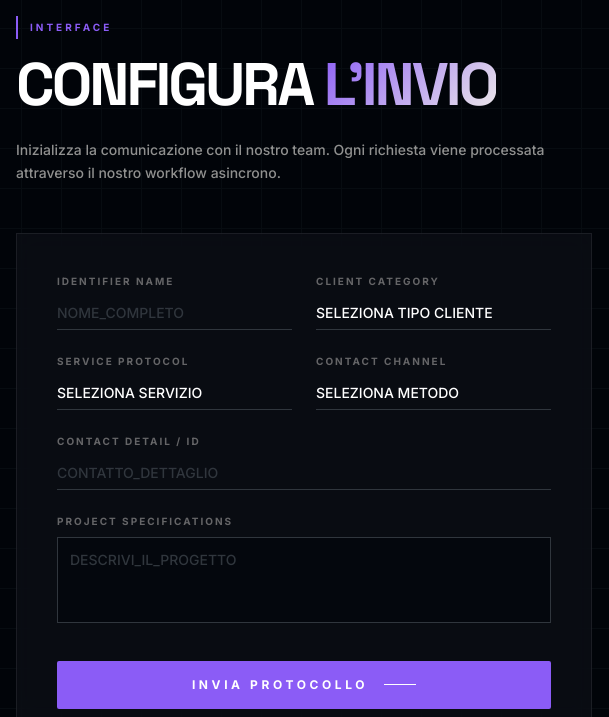
Test: ContactForm › shows client type validation error
The image size is (609, 717).
In the field labelled "Identifier Name": (174, 313) [57,296,292,330], type "Test User"
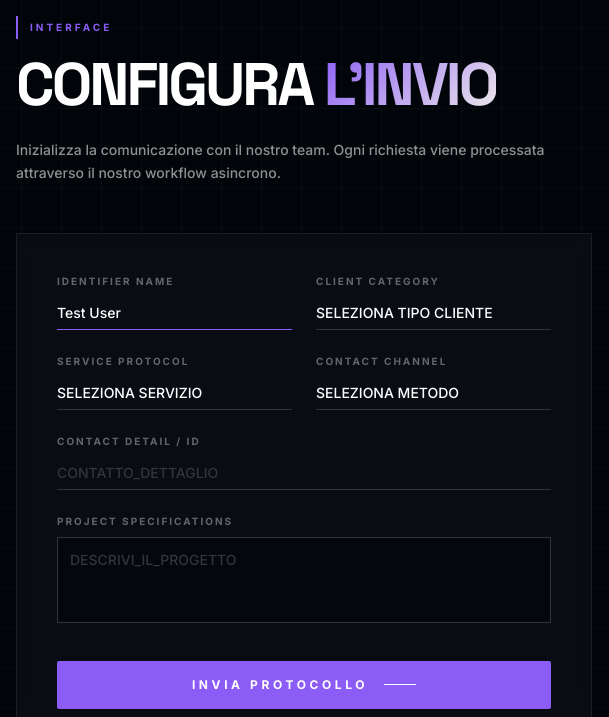
Click the button "Invia Protocollo": (304, 684) [57,660,551,708]
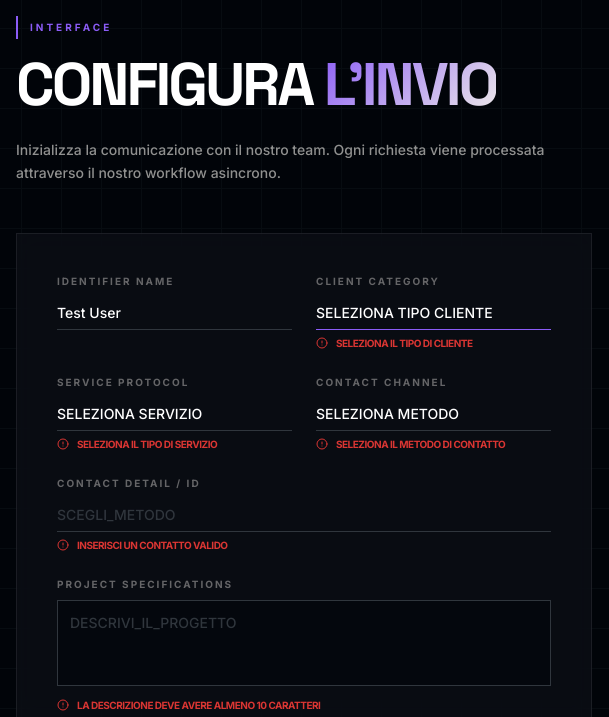
Expected: the text "Seleziona il tipo di cliente" is shown, [316,336,472,349]
